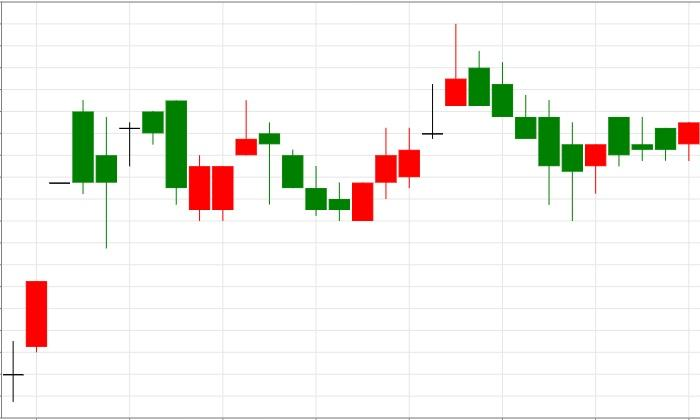bullish_engulfing_rise: (258, 122, 374, 221)
three_black_crows_fall: (188, 100, 328, 221)
